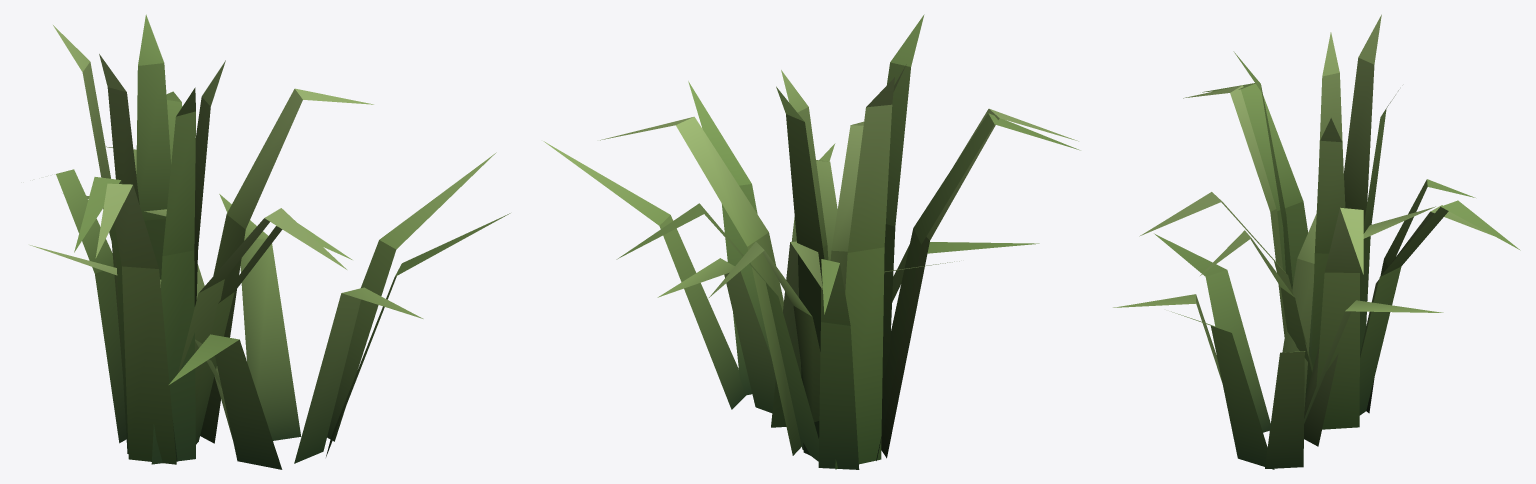
The model's file is deco-grass.glb.
3 renders of one model, left to right at view 1: azimuth 30°, elevation 25°; view 2: azimuth 150°, elevation 25°; view 3: azimuth 270°, elevation 25°, orthographic. The views are drawn at different scales.
Visible parts, largest first — view 1: 0_grass; view 2: 0_grass; view 3: 0_grass.
Boxes of the visible parts, x1=… form: 0_grass: x1=30, y1=14, x2=510, y2=469; 0_grass: x1=543, y1=14, x2=1080, y2=469; 0_grass: x1=1113, y1=14, x2=1520, y2=469.
Size of the model in its own units: 0.8106 by 0.6723 by 0.6859.
